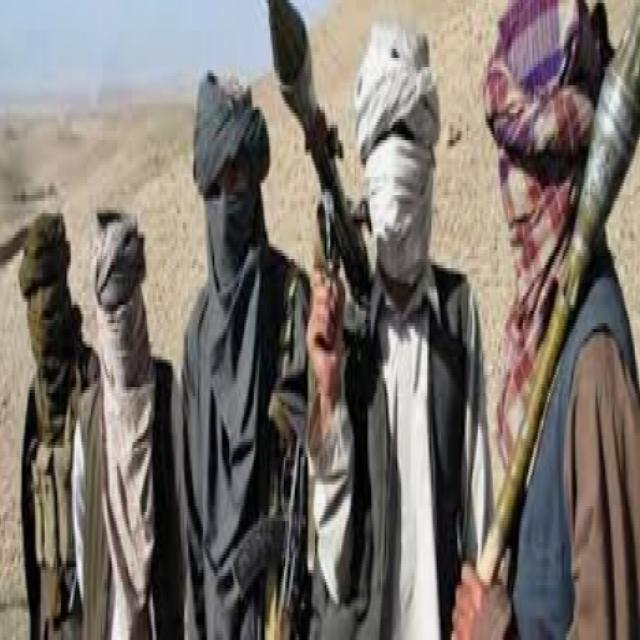civilian: (74, 210, 185, 637), (19, 209, 100, 637)
terrorist: (269, 0, 492, 637), (449, 0, 639, 637), (171, 73, 320, 637)
